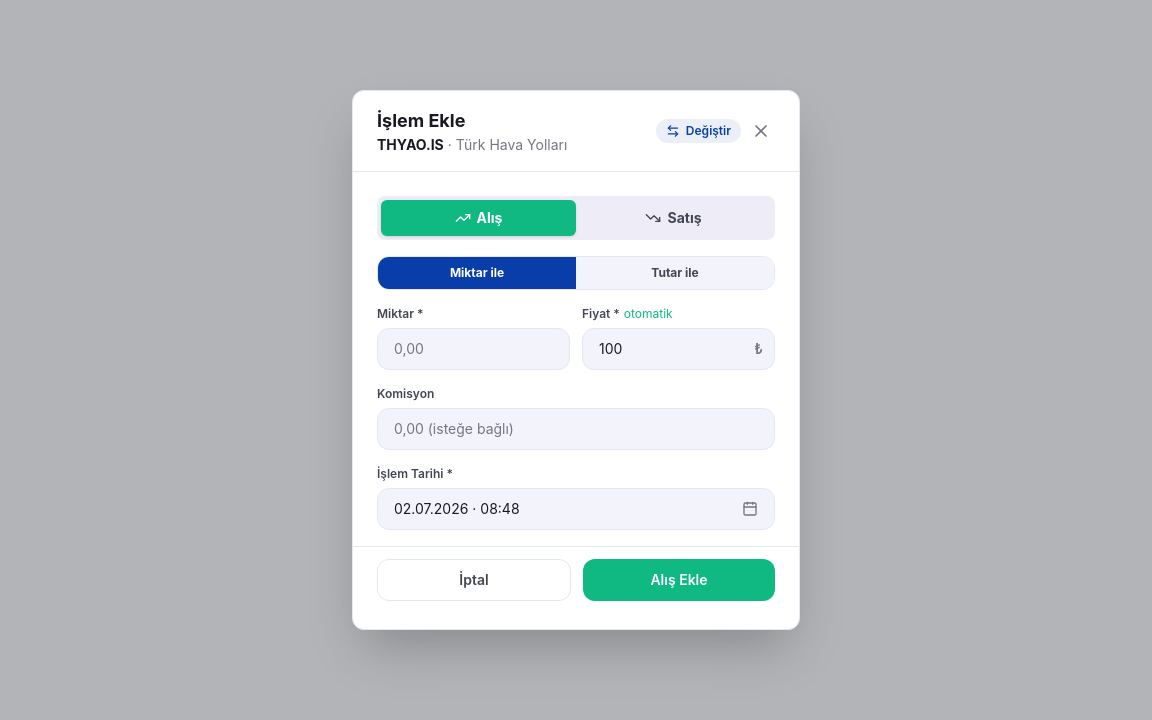
Test: AddTransactionModal — gönderim (submit) davranışı › miktar boşken gönderince hata gösterir, addTransaction çağrılmaz
Fiyat otomatik dolu (100) ama miktar boş → "Miktar 0'dan büyük olmalıdır."
Click the button "Alış Ekle".
click(679, 580)  # box [583,559,775,601]
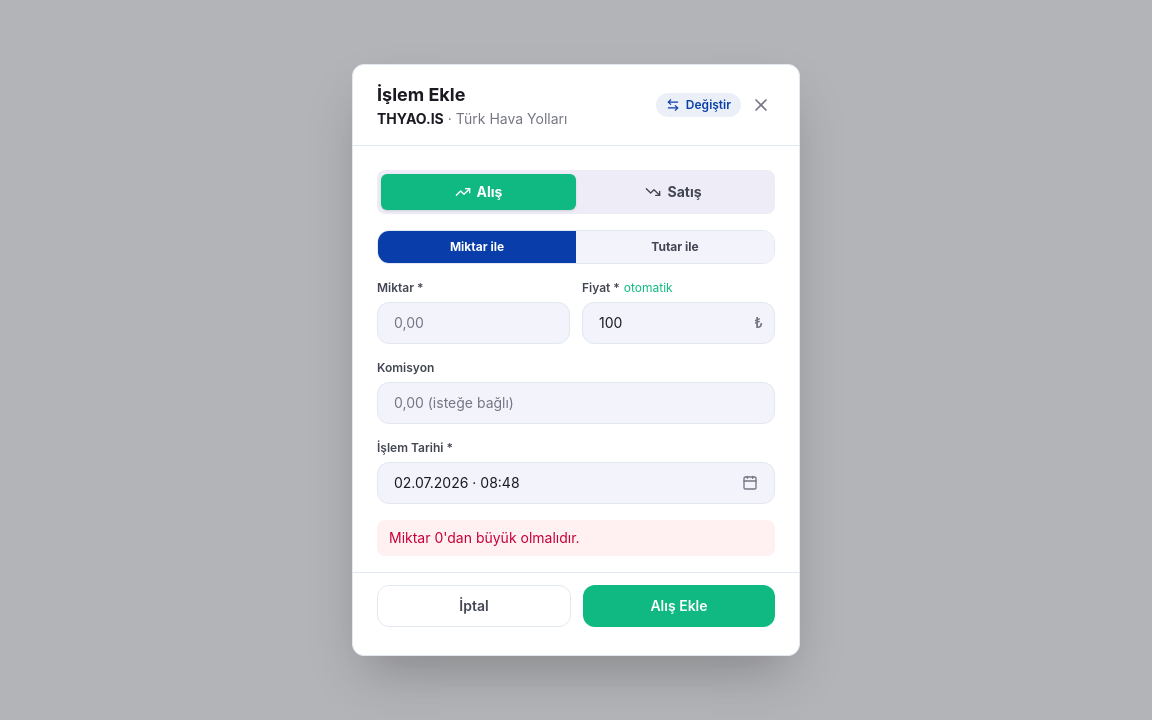
Expected: the text "Miktar 0'dan büyük olmalıdır." is shown, [377,520,775,556]
